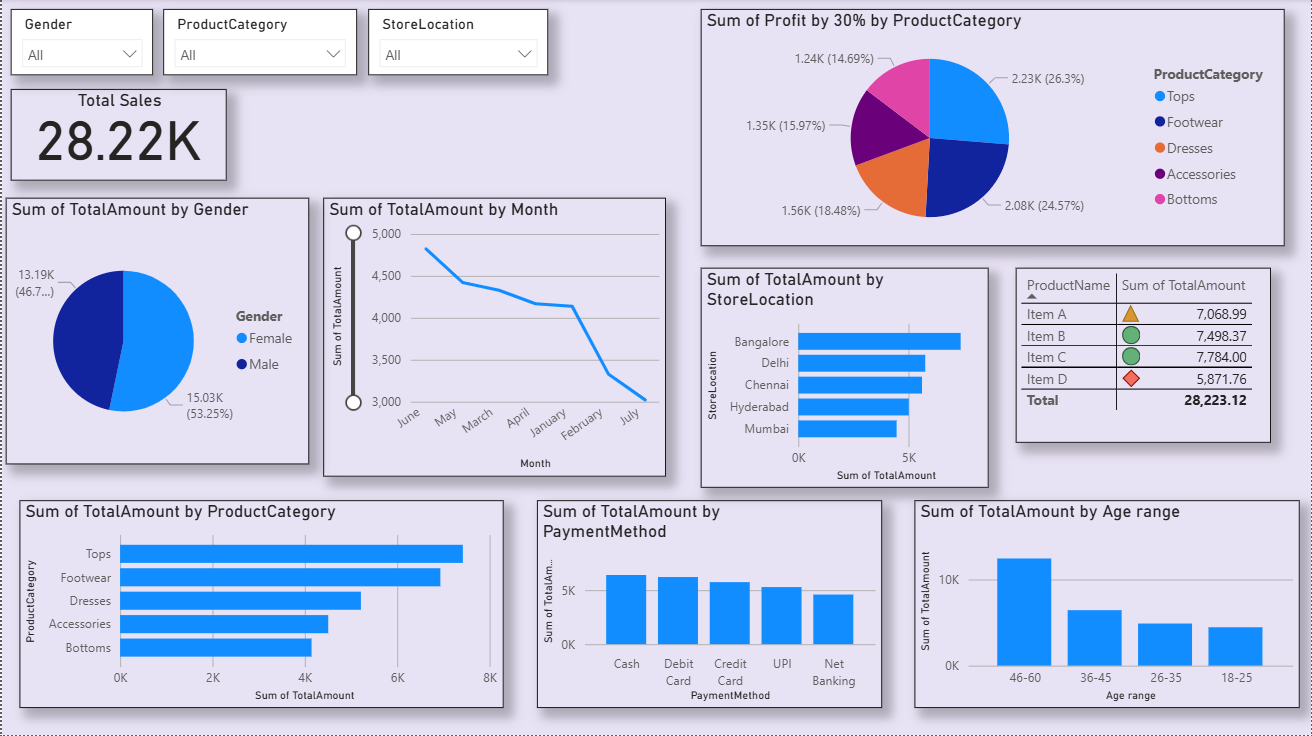

This screenshot's page, from the dashboard's own definition file:
{"tool":"powerbi","page":{"name":"Page 1","canvas":[1280,720],"ordinal":0},"visuals":[{"type":"slicer","fields":{"Values":["Sheet1.Gender"]},"box":[8.6,9.8,139.4,64.8],"z":0},{"type":"slicer","fields":{"Values":["Sheet1.ProductCategory"]},"box":[157.7,9.8,189.5,64.8],"z":1000},{"type":"slicer","fields":{"Values":["Sheet1.StoreLocation"]},"box":[358.3,9.8,176.1,64.8],"z":2000},{"type":"card","title":"Total Sales","fields":{"Values":["Sum(Sheet1.TotalAmount)"]},"box":[8.6,88,211.6,89.3],"z":3000},{"type":"pieChart","fields":{"Y":["Sum(Sheet1.TotalAmount)"],"Category":["Sheet1.Gender"]},"box":[3.7,194.4,297.1,260.5],"z":4000},{"type":"barChart","fields":{"Y":["Sum(Sheet1.TotalAmount)"],"Category":["Sheet1.ProductCategory"]},"box":[17.1,490.4,473.2,203],"z":5000},{"type":"lineChart","fields":{"Y":["Sum(Sheet1.TotalAmount)"],"Category":["Sheet1.Month"]},"box":[314.3,194.4,335.1,272.7],"z":6000},{"type":"clusteredColumnChart","fields":{"Y":["Sum(Sheet1.TotalAmount)"],"Category":["Sheet1.PaymentMethod"]},"box":[523.4,490.4,337.5,203],"z":7000},{"type":"barChart","fields":{"Y":["Sum(Sheet1.TotalAmount)"],"Category":["Sheet1.StoreLocation"]},"box":[683.6,262.9,281.3,215.2],"z":8000},{"type":"clusteredColumnChart","fields":{"Category":["Sheet1.Custom"],"Y":["Sum(Sheet1.TotalAmount)"]},"box":[892.7,490.4,376.6,203],"z":9000},{"type":"pivotTable","fields":{"Rows":["Sheet1.ProductName"],"Values":["Sum(Sheet1.TotalAmount)"]},"box":[991.7,262.9,249.5,171.2],"z":10000},{"type":"pieChart","fields":{"Category":["Sheet1.ProductCategory"],"Y":["Sum(Sheet1.Profit by 30%)"]},"box":[683.6,9.8,571.1,232.3],"z":11000}]}

Visuals, with their boxes in screenshot pixels (x1, y1, x2, y2), scaled from the page's 1280x720 canvas onto the 1312x736 screenshot:
slicer - Sheet1.Gender: x1=9 y1=10 x2=152 y2=76
slicer - Sheet1.ProductCategory: x1=162 y1=10 x2=356 y2=76
slicer - Sheet1.StoreLocation: x1=367 y1=10 x2=548 y2=76
"Total Sales" card: x1=9 y1=90 x2=226 y2=181
pieChart - Sum(Sheet1.TotalAmount) x Sheet1.Gender: x1=4 y1=199 x2=308 y2=465
barChart - Sum(Sheet1.TotalAmount) x Sheet1.ProductCategory: x1=18 y1=501 x2=503 y2=709
lineChart - Sum(Sheet1.TotalAmount) x Sheet1.Month: x1=322 y1=199 x2=666 y2=477
clusteredColumnChart - Sum(Sheet1.TotalAmount) x Sheet1.PaymentMethod: x1=536 y1=501 x2=882 y2=709
barChart - Sum(Sheet1.TotalAmount) x Sheet1.StoreLocation: x1=701 y1=269 x2=989 y2=489
clusteredColumnChart - Sheet1.Custom x Sum(Sheet1.TotalAmount): x1=915 y1=501 x2=1301 y2=709
pivotTable - Sheet1.ProductName x Sum(Sheet1.TotalAmount): x1=1016 y1=269 x2=1272 y2=444
pieChart - Sheet1.ProductCategory x Sum(Sheet1.Profit by 30%): x1=701 y1=10 x2=1286 y2=247
